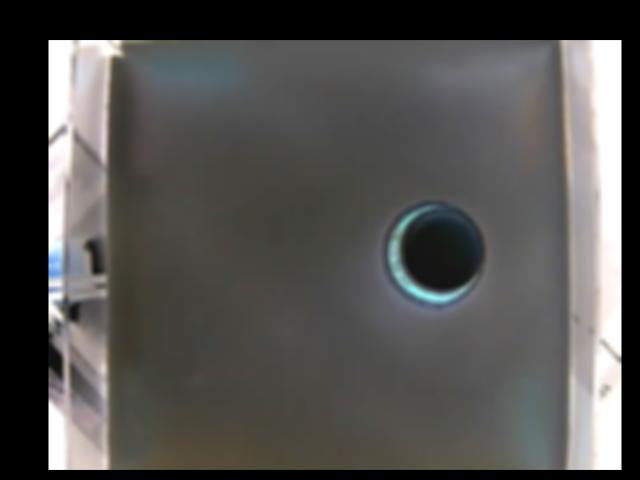Cup: (379, 202, 489, 307)
